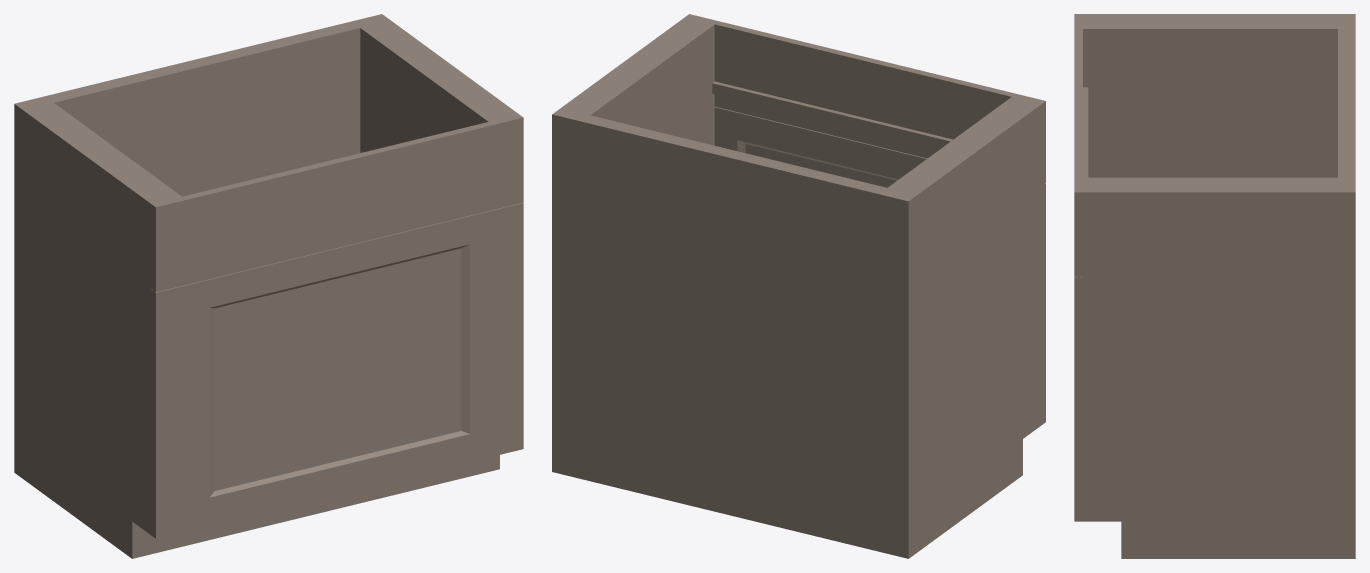
File: Base-Cabinet-Wastebasket-24-Deep_std_001_W36in_2D.glb
3 renders of one model, left to right at view 1: azimuth 30°, elevation 25°; view 2: azimuth 150°, elevation 25°; view 3: azimuth 270°, elevation 25°, orthographic. The views are drawn at different scales.
Visible parts, largest first — view 1: Base-Cabinet-Wastebasket-24-Deep.std.001_W36in_2D; view 2: Base-Cabinet-Wastebasket-24-Deep.std.001_W36in_2D; view 3: Base-Cabinet-Wastebasket-24-Deep.std.001_W36in_2D.
Part boxes in pixels (x1,y1,x2,y2): Base-Cabinet-Wastebasket-24-Deep.std.001_W36in_2D: (14, 14, 523, 558); Base-Cabinet-Wastebasket-24-Deep.std.001_W36in_2D: (552, 14, 1045, 558); Base-Cabinet-Wastebasket-24-Deep.std.001_W36in_2D: (1074, 14, 1355, 558).
Size of the model in its own units: 0.9144 by 0.8763 by 0.6096.
